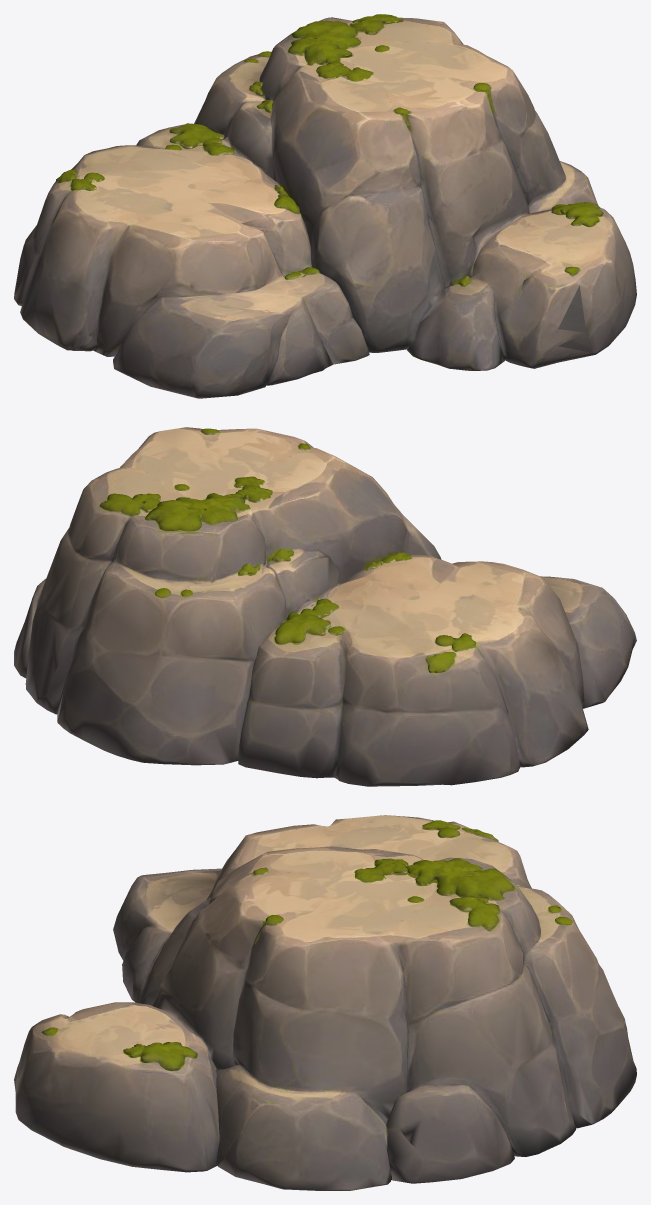
The model's file is rock-big.glb.
3 renders of one model, top to bottom at view 1: azimuth 30°, elevation 25°; view 2: azimuth 150°, elevation 25°; view 3: azimuth 270°, elevation 25°, orthographic. The views are drawn at different scales.
Parts seen in each view (by area): view 1: Mesh_0; view 2: Mesh_0; view 3: Mesh_0.
Part boxes in pixels (left/top/right/bottom): Mesh_0: left=14, top=14, right=636, bottom=398; Mesh_0: left=14, top=427, right=636, bottom=786; Mesh_0: left=14, top=815, right=636, bottom=1190.
Bounding box in the file's own units: 1 × 0.3463 × 0.9228.
Materials: 1 (1 with a texture image).
